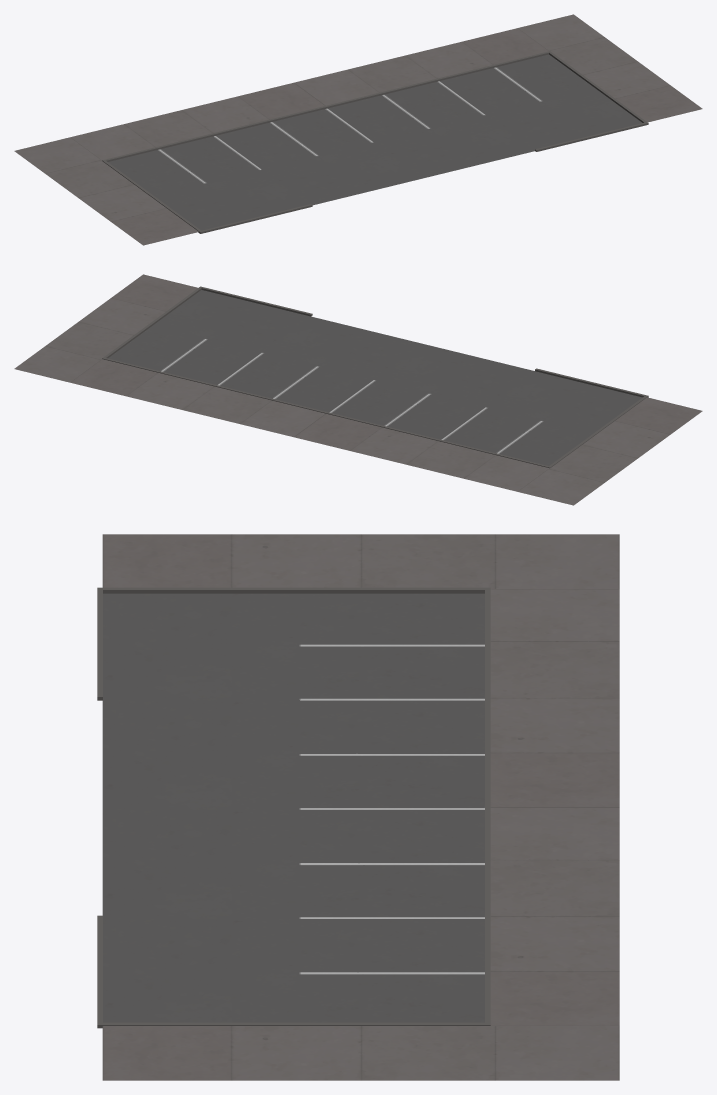
The model's file is SM_Floor_Parking_01.fbx.
The picture shows the model from 3 angles, top to bottom: view 1: azimuth 30°, elevation 25°; view 2: azimuth 150°, elevation 25°; view 3: azimuth 270°, elevation 25°; orthographic projection. The views are drawn at different scales.
Visible parts, largest first — view 1: SM_Floor_Parking_01; view 2: SM_Floor_Parking_01; view 3: SM_Floor_Parking_01.
Boxes of the visible parts, x1,y1,x2,y2 form: SM_Floor_Parking_01: (14,14,702,245); SM_Floor_Parking_01: (14,274,702,505); SM_Floor_Parking_01: (97,534,619,1080).
Bounding box in the file's own units: 25 × 0.075 × 10.11.
